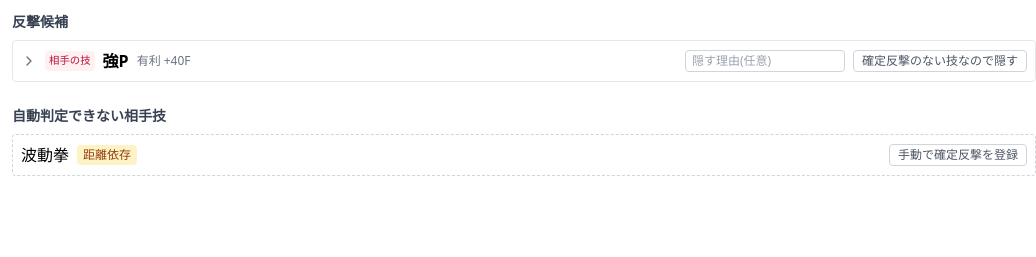
Test: PunishTree › 相手技→始動技→(孫 0 でも)新規登録リンクの 3 階層を描画し、レーンバッジを出す
Check: the text "強P" is shown, box [103,49,129,73]
Check: the text "有利 +40F" is shown, box [137,53,191,69]
Click the button with aria-label "expand" at (106, 61), box [21,49,191,73]
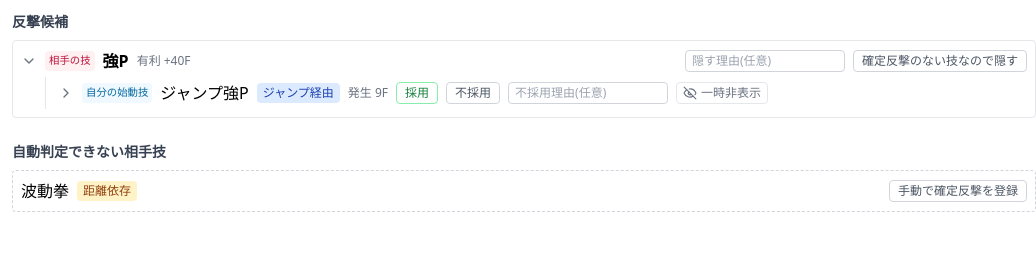
Check: the text "ジャンプ強P" is shown, box [160,81,249,105]
Check: the text "ジャンプ経由" is shown, box [257,83,340,103]
Click the button with aria-label "expand" at (223, 93), box [58,81,388,105]
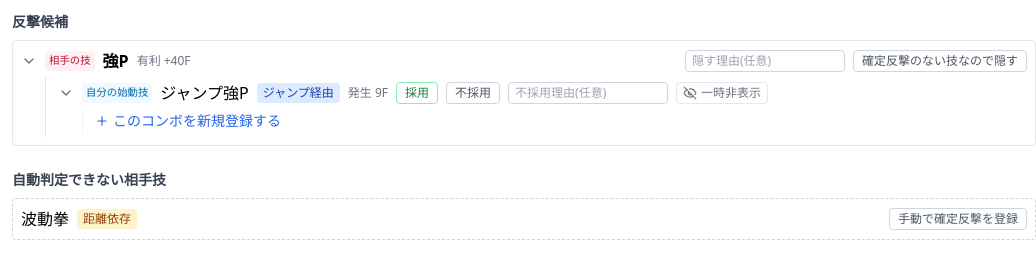
Check: the button "このコンボを新規登録する" is shown, box [95,111,281,131]
